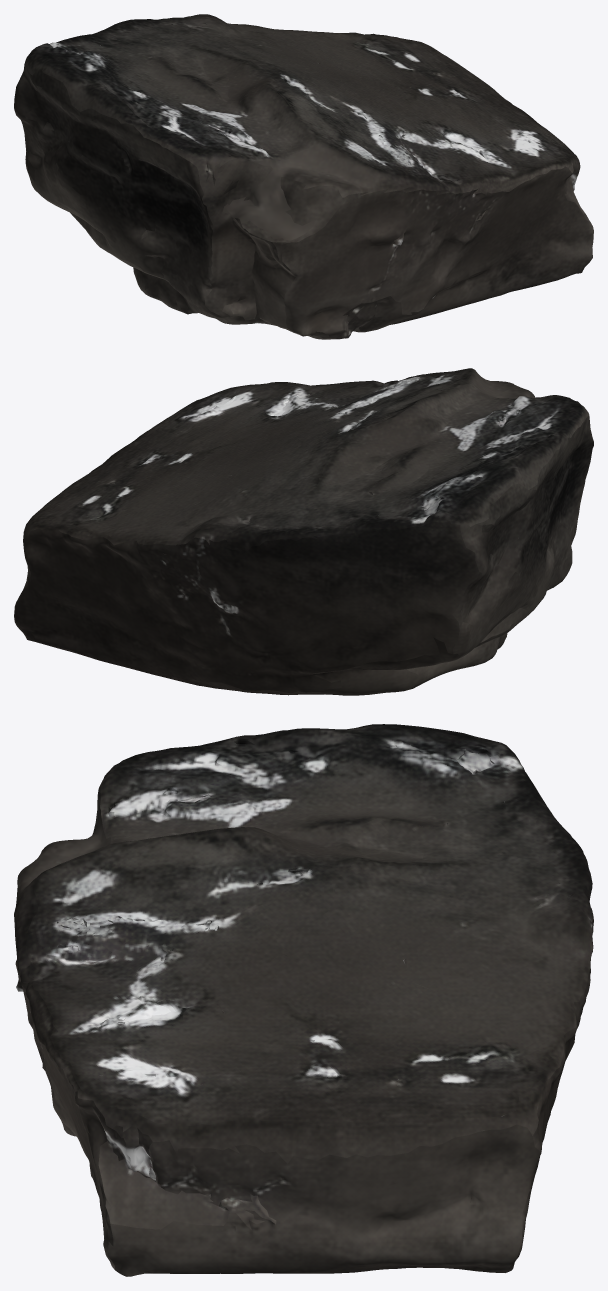
3 views of the same model, one above another, from view 1: azimuth 30°, elevation 25°; view 2: azimuth 150°, elevation 25°; view 3: azimuth 270°, elevation 25° (orthographic). The views are drawn at different scales.
Visible parts, largest first — view 1: world; view 2: world; view 3: world.
Boxes of the visible parts, bbox=[...] form: world: bbox=[14, 14, 593, 339]; world: bbox=[14, 368, 593, 695]; world: bbox=[14, 724, 593, 1276].
Size of the model in its own units: 0.45 by 0.2192 by 0.3955.
1 material, 1 textured.
